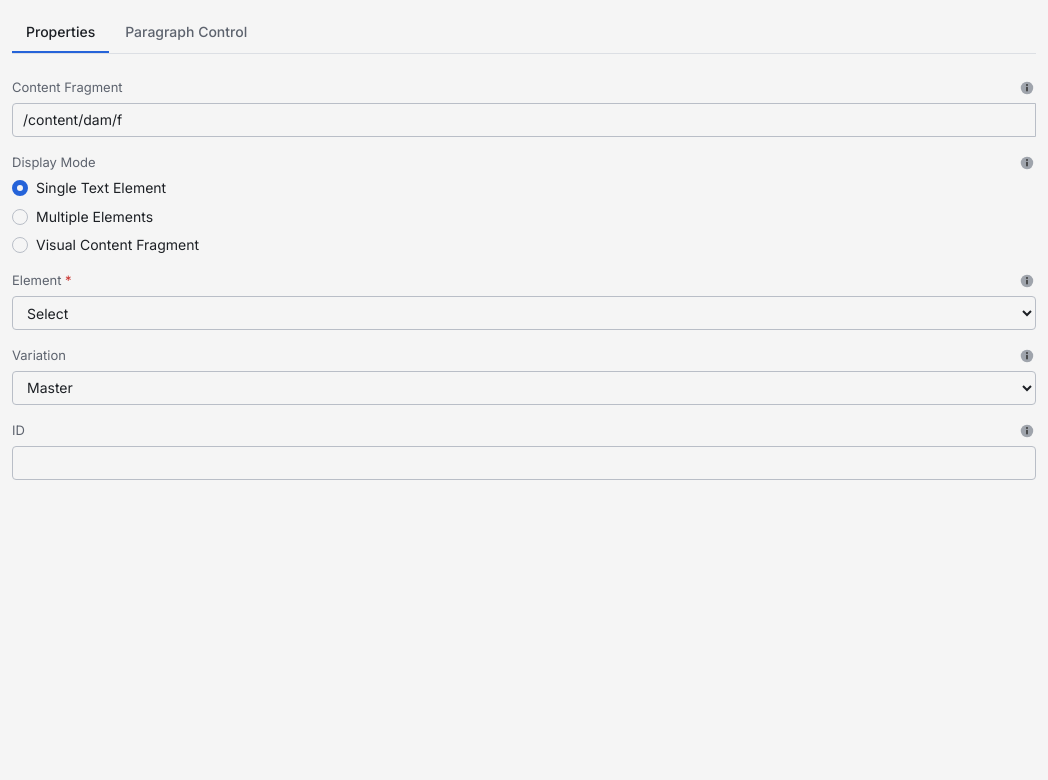
Test: Content Fragment: elements and variants of the chosen content fragment › lists the variants (Master first) and the elements, single or multiple
Select "Price" in the dropdown labelled "Element *": (524, 313) [12,296,1036,330]
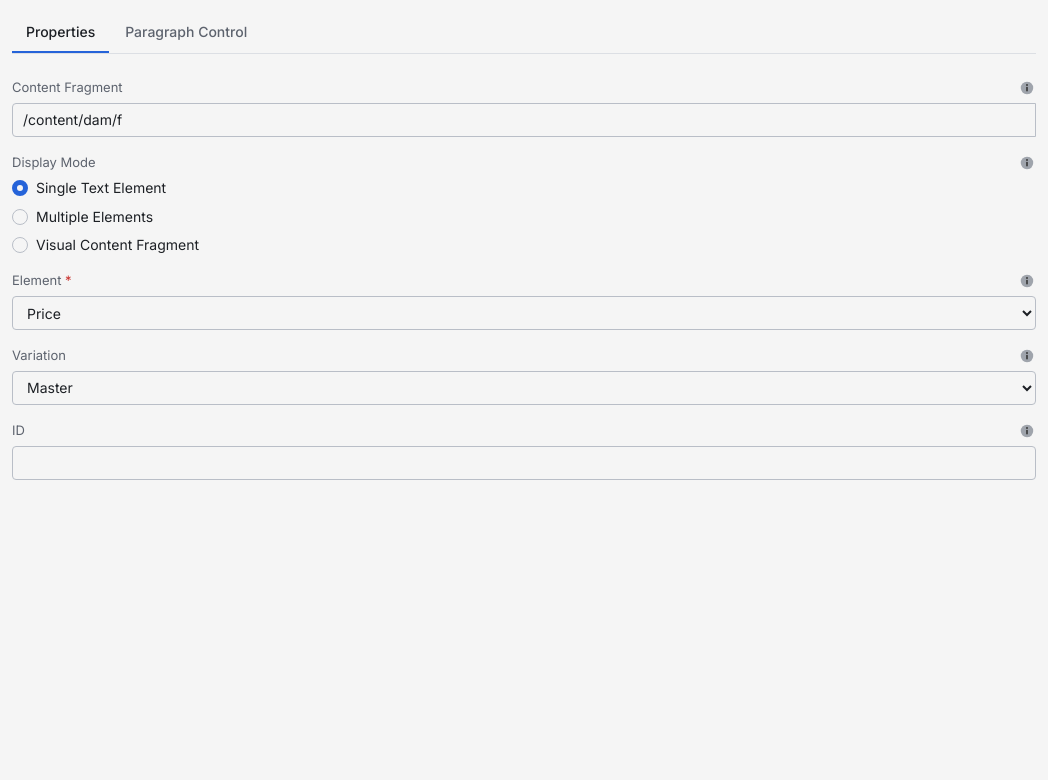
Click the radio button labelled "Multiple Elements": click(83, 216) [12,208,153,225]
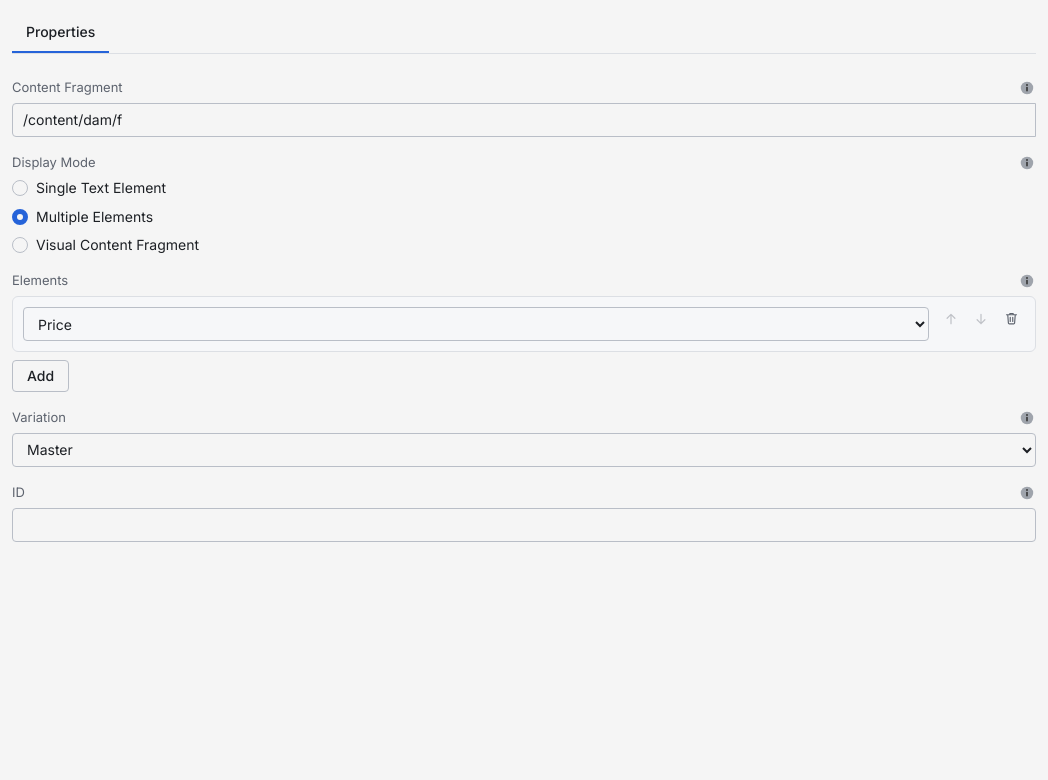
Now the dropdown named "Element 1" is shown, box [23,307,929,341]
